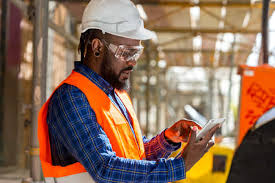hard hat: (79, 1, 155, 40)
high-vis: (38, 70, 146, 178)
